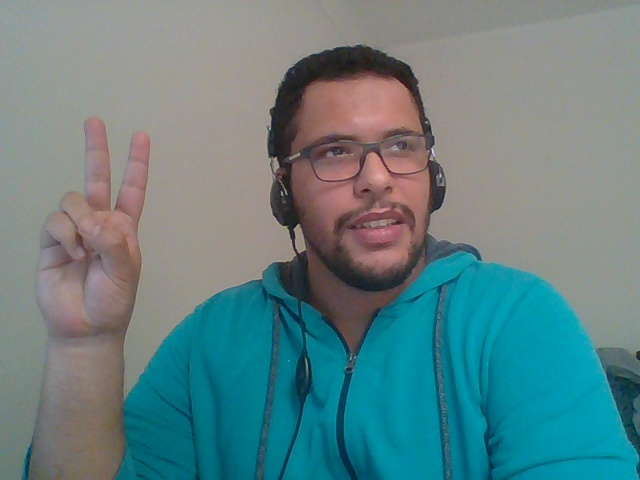vectory: (21, 99, 175, 378)
